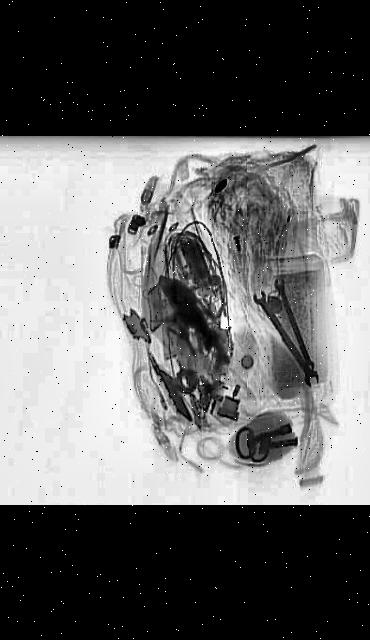Wrench: (248, 288, 322, 386), (270, 276, 316, 370)
